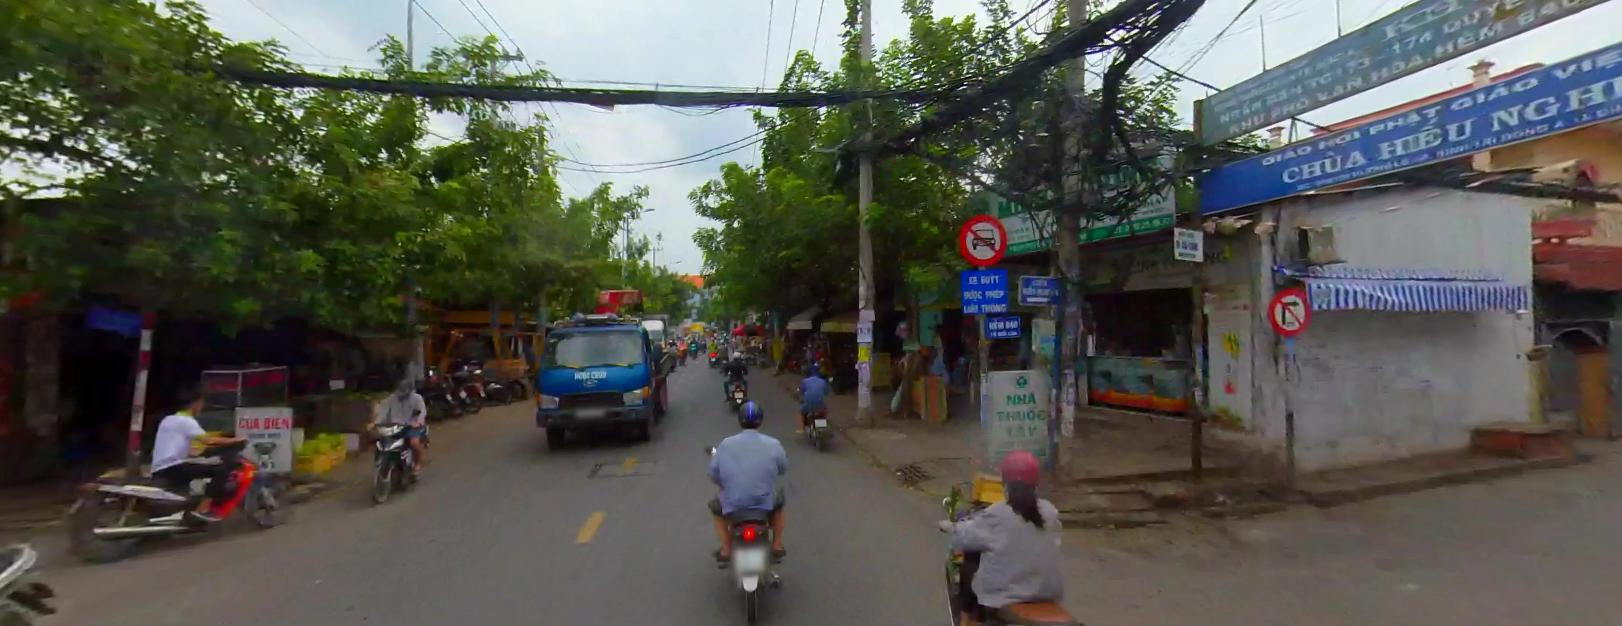Cam con lai: (957, 213, 1007, 266)
Cam re: (1263, 284, 1312, 334)
